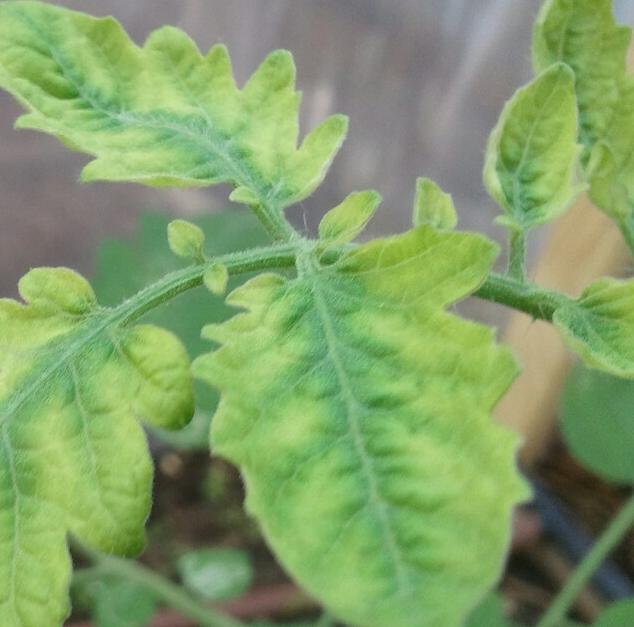Tomato leaf yellow virus: (214, 244, 546, 627), (0, 0, 339, 227), (0, 256, 191, 627), (519, 0, 634, 218), (474, 53, 576, 231)
